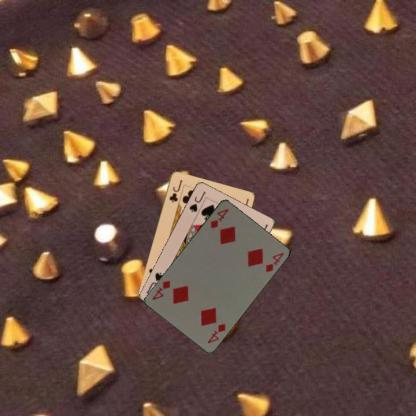4d: (207, 206, 230, 230), (205, 320, 227, 344)
Jc: (166, 177, 184, 203)
Js: (186, 188, 206, 214)
